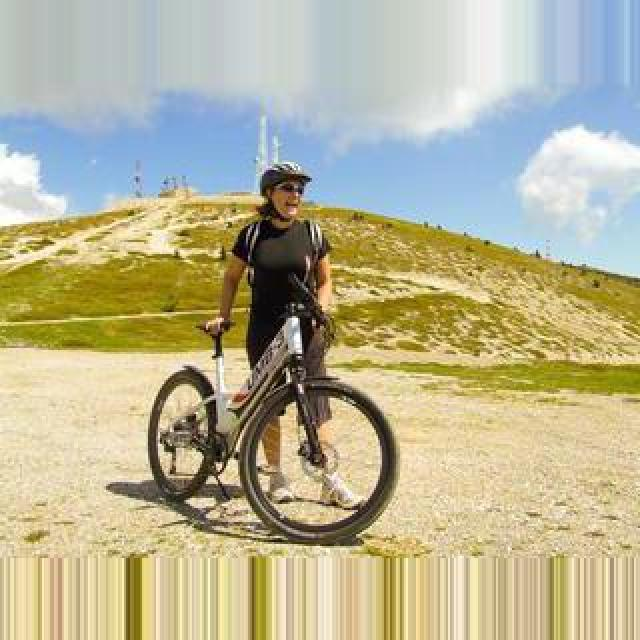MC-Bike: (210, 166, 336, 506)
Person: (146, 285, 394, 539)
